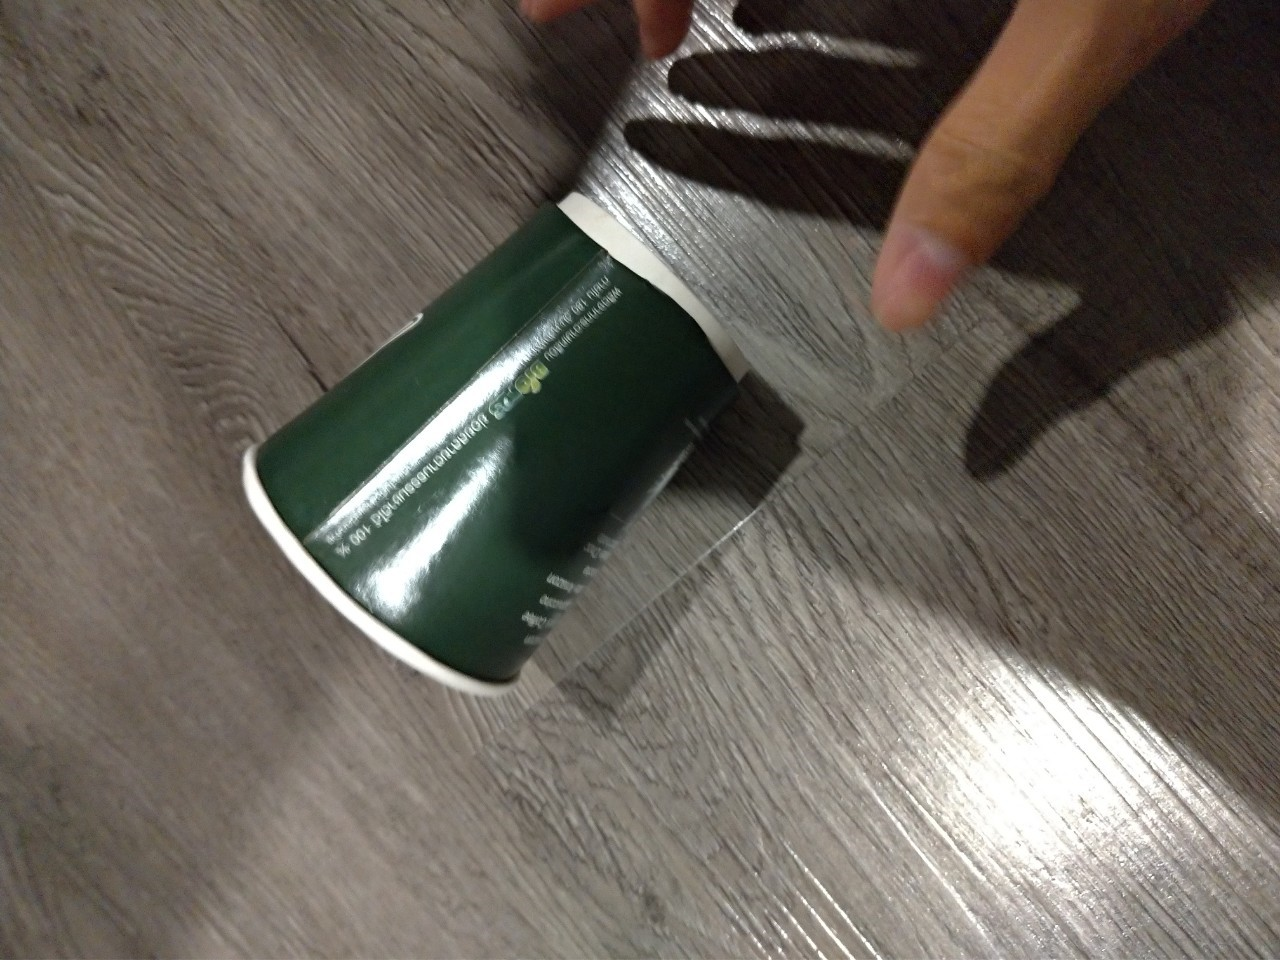PaperCup: (248, 197, 752, 697)
